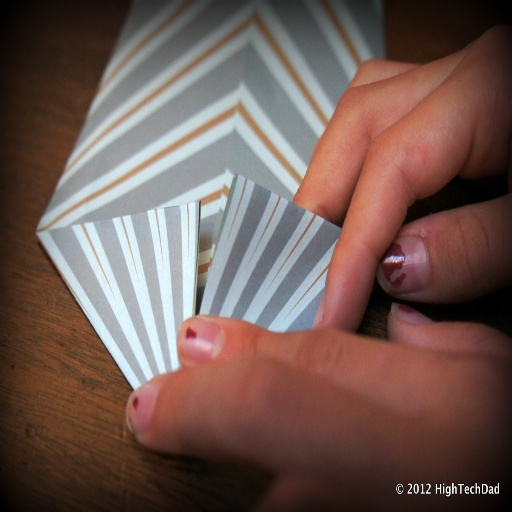hand: (123, 300, 511, 510), (300, 10, 509, 315)
